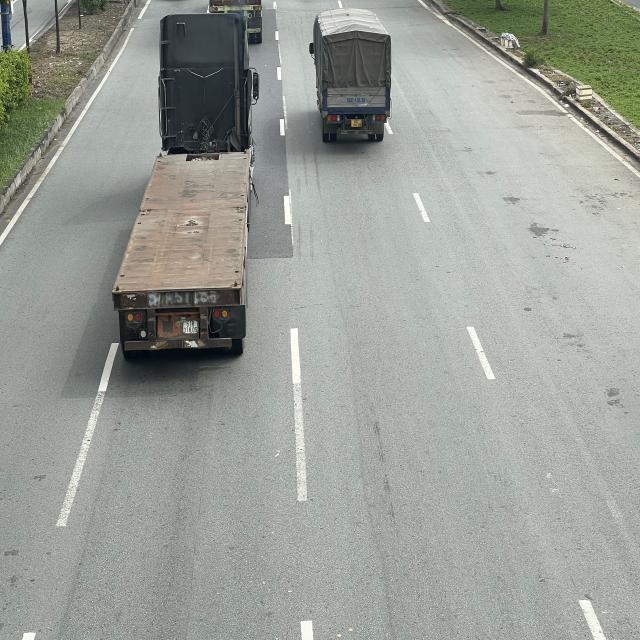container: (110, 13, 259, 362)
truck: (307, 11, 393, 142)
